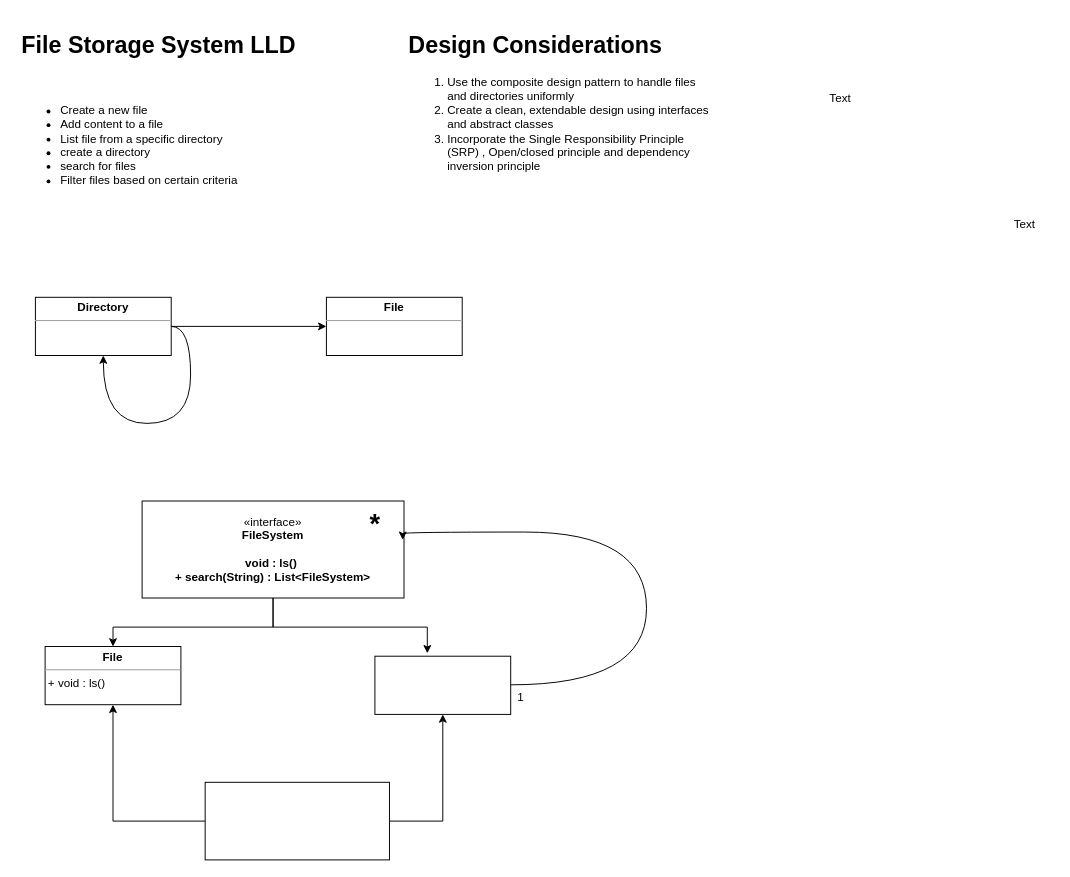
The diagram is 1070 pixels wide and 877 high, and some of its shapes have lost their labels. The shapes that lost their labels are listed below. From the top down, each one's centre as x and y in pixels, then its label:
At point 442,684: "Directory + void : ls()".
At point 296,820: "<<Interface>> FileFilter + apply(FileSystem): boolean".
